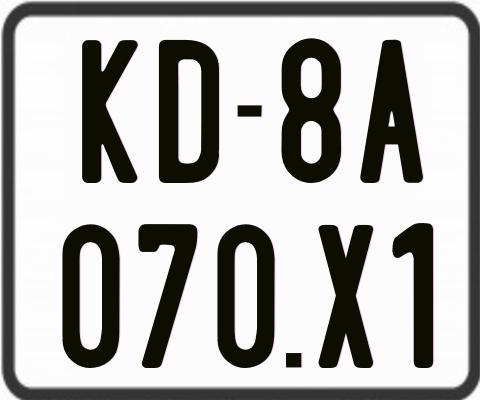0: (59, 224, 122, 371), (216, 224, 278, 369)
1: (391, 220, 438, 366)
7: (135, 224, 196, 369)
8: (280, 38, 343, 188)
A: (360, 39, 423, 186)
D: (159, 39, 223, 184)
K: (81, 38, 138, 183)
X: (318, 223, 376, 368)
